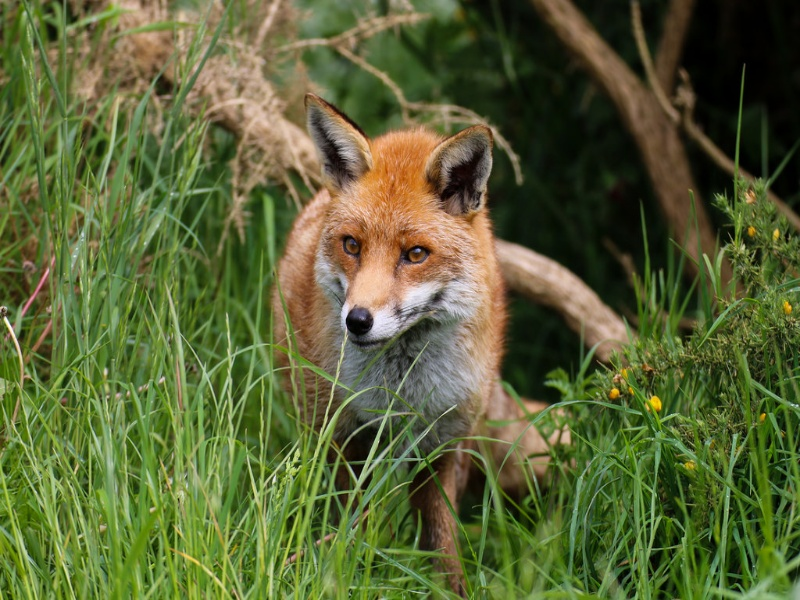fox: (246, 91, 574, 573)
